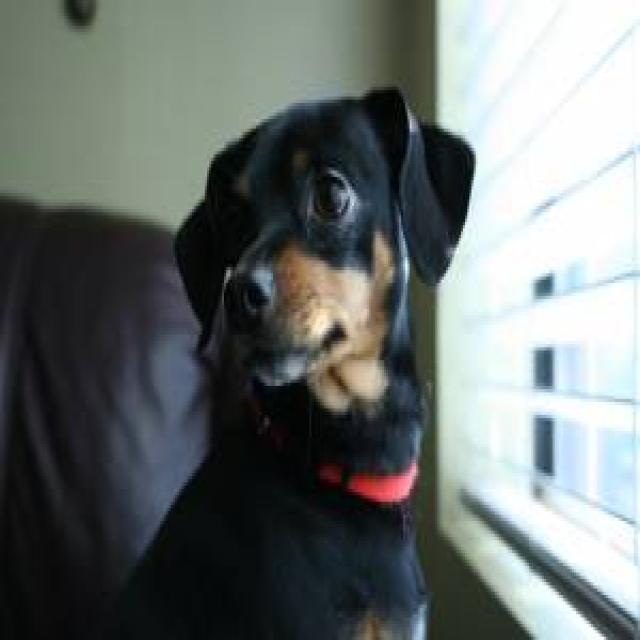dog-miniature_pinscher: (81, 80, 484, 634)
